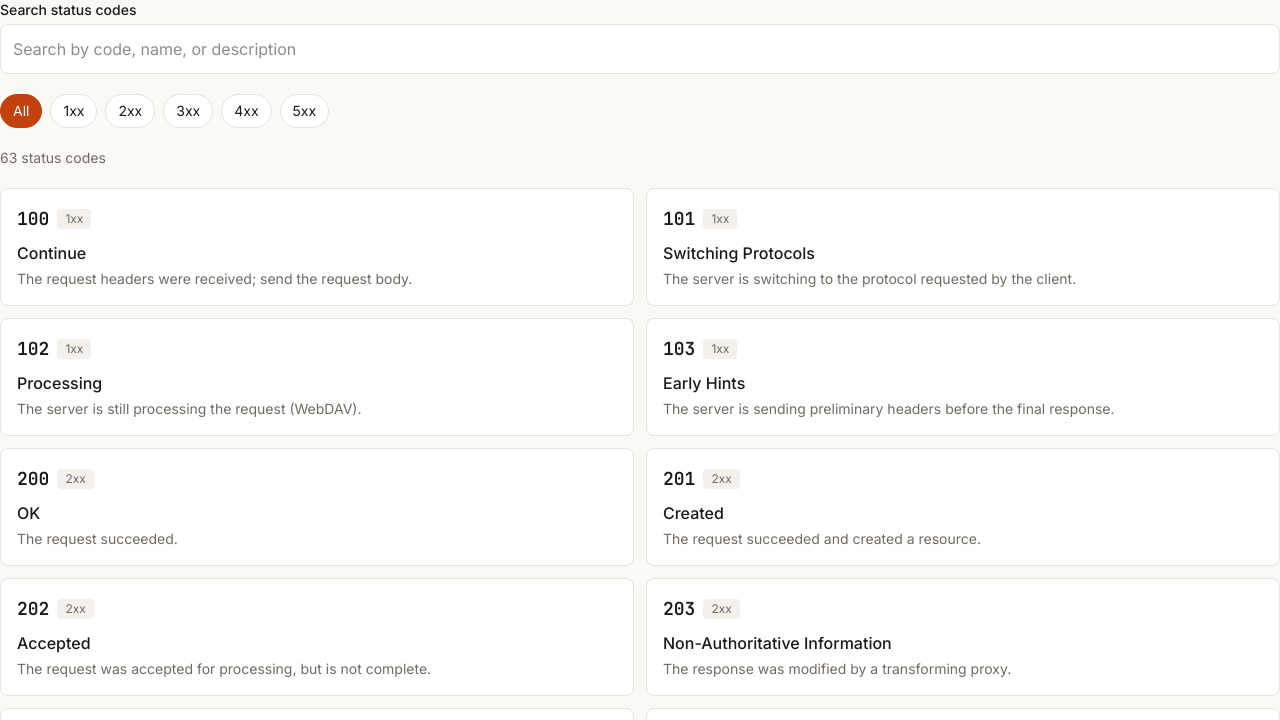
Test: HttpStatusCodes › searches status names and descriptions
In the search field labelled "Search status codes": coordinates (640, 49) [0,24,1279,74], type "Unauthorized"
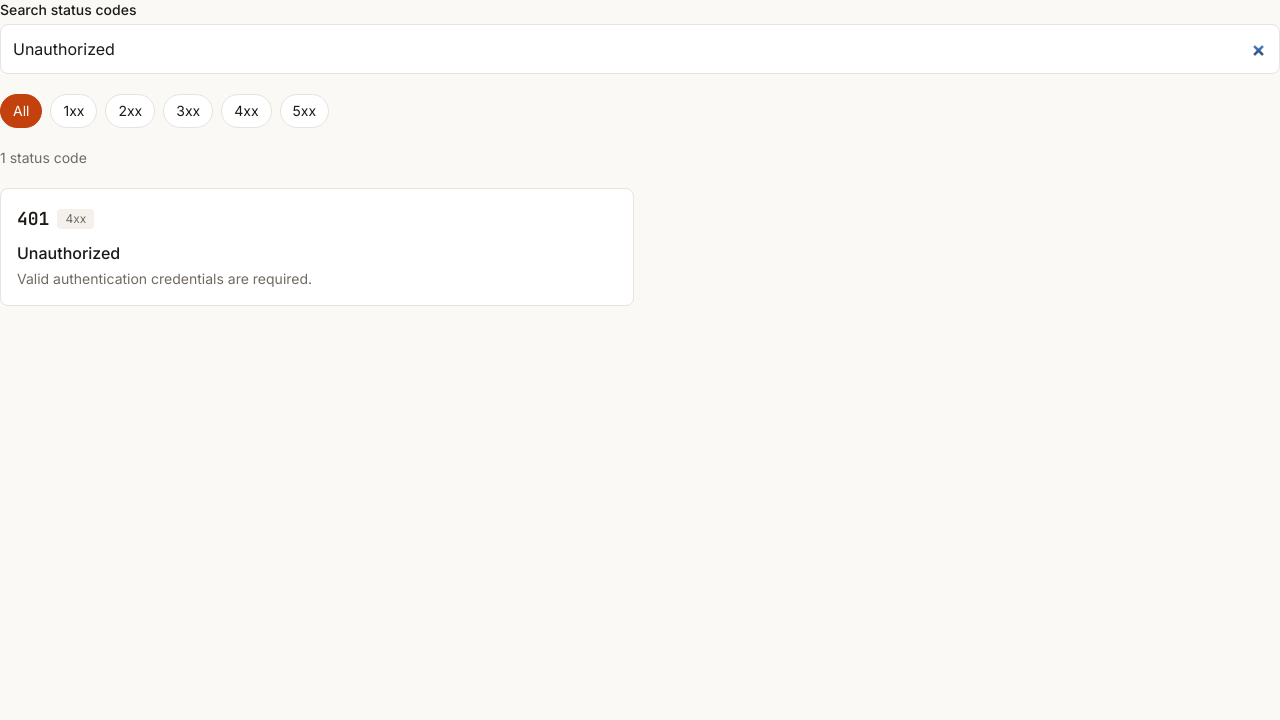
Expected: the heading "Unauthorized" is shown, [17,243,120,263]
Replace the text in the search field labelled "Search status codes" with "temporarily unable": coordinates (640, 49) [0,24,1279,74]
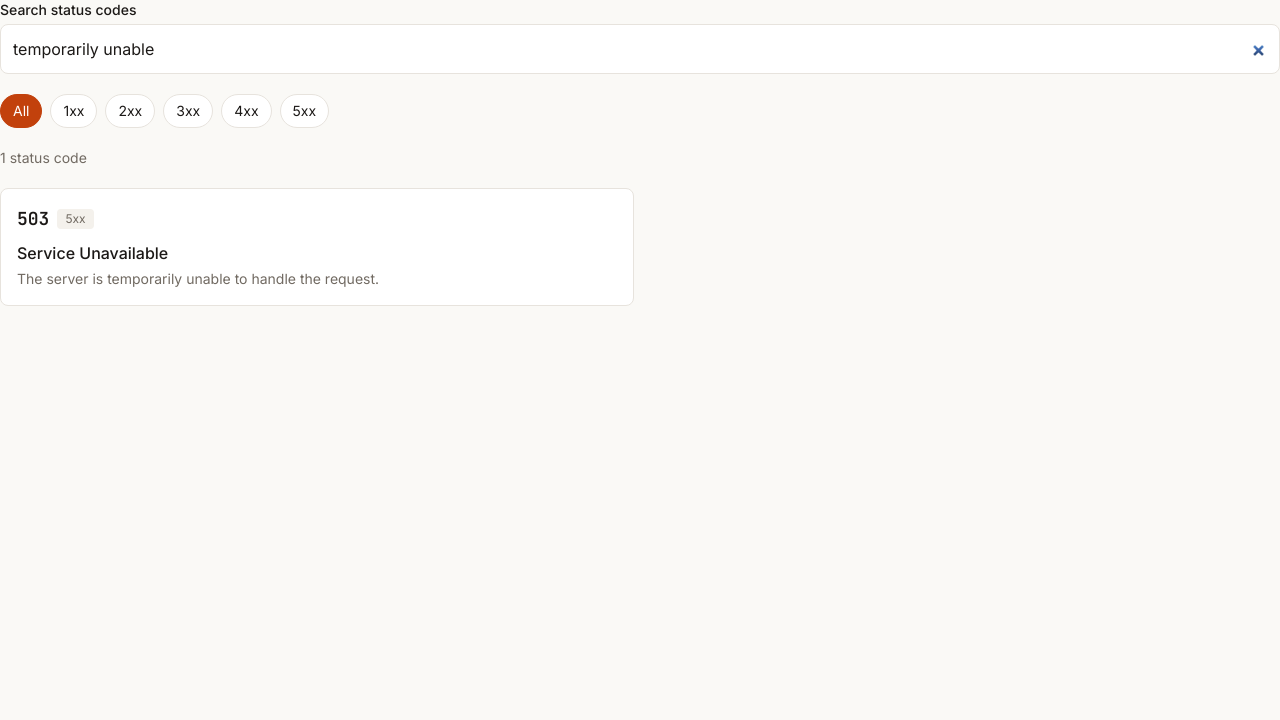
Expected: the heading "Service Unavailable" is shown, [17,243,168,263]
